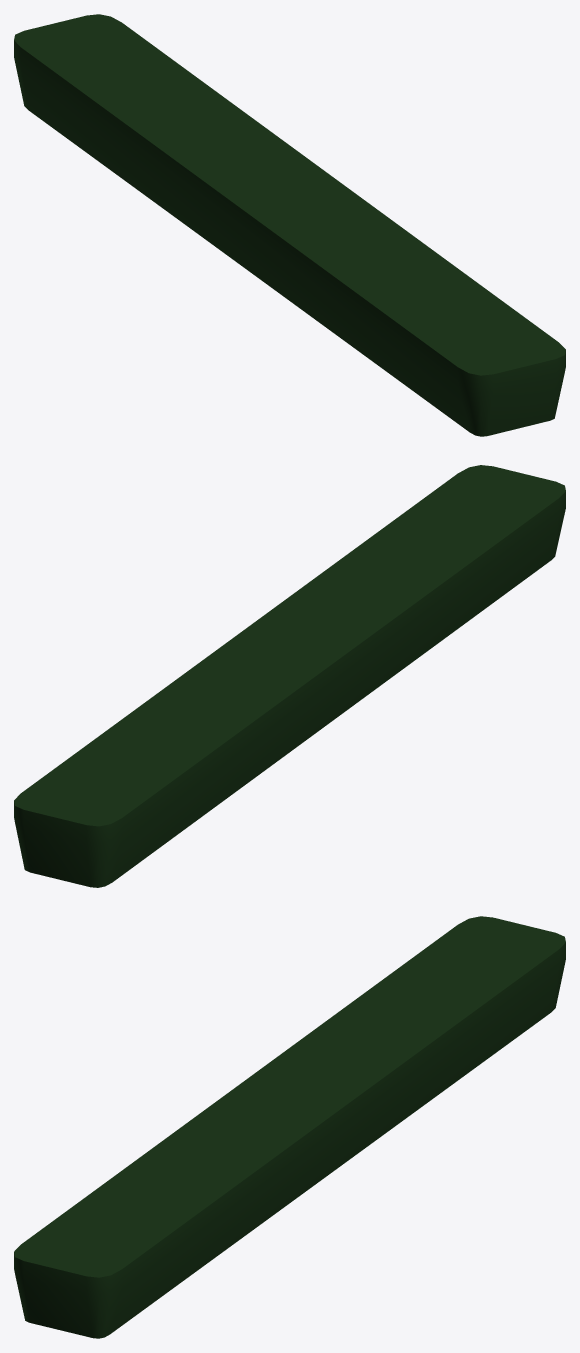
The model's file is lampe_plafond.FBX.
3 renders of one model, top to bottom at view 1: azimuth 30°, elevation 25°; view 2: azimuth 150°, elevation 25°; view 3: azimuth 330°, elevation 25°, orthographic.
Parts seen in each view (by area): view 1: lampe_plafond031; view 2: lampe_plafond031; view 3: lampe_plafond031.
Part boxes in pixels (x1,y1,x2,y2): lampe_plafond031: (14,14,565,436); lampe_plafond031: (14,465,565,887); lampe_plafond031: (14,916,565,1338).
Size of the model in its own units: 6.62 by 4.12 by 53.18.
